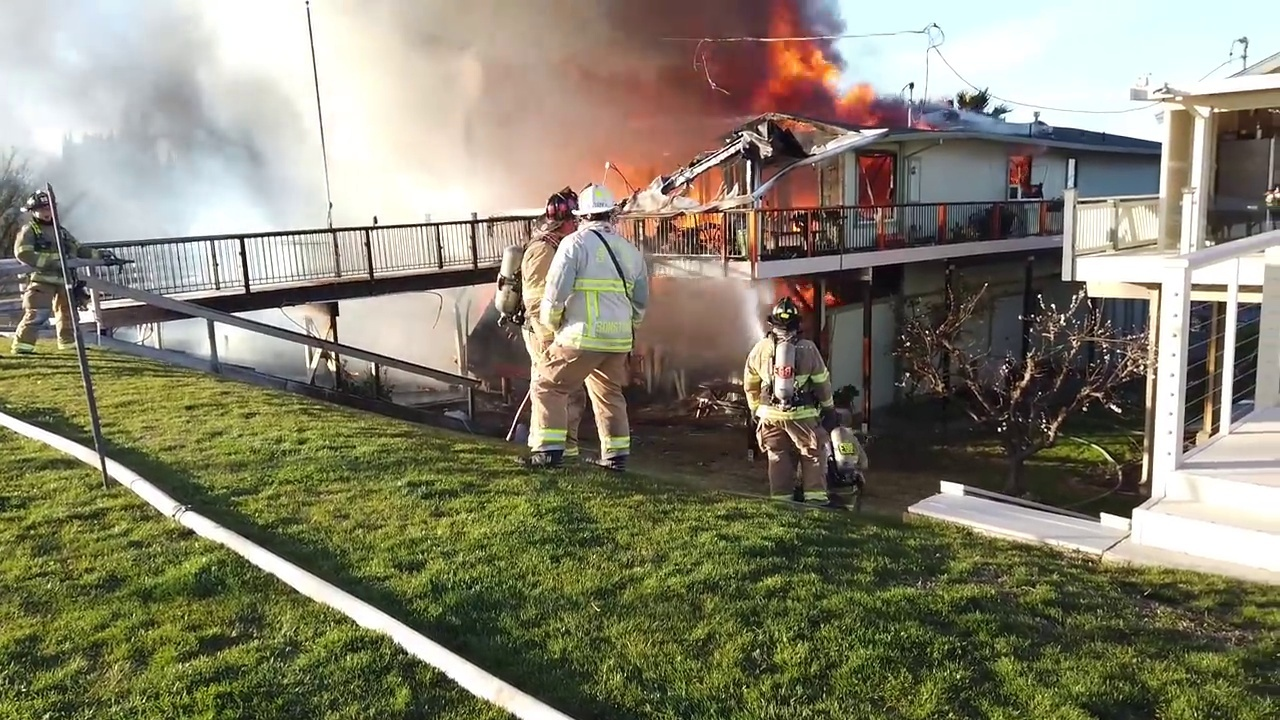fire: (759, 7, 888, 127), (648, 279, 747, 390), (780, 277, 841, 309), (857, 155, 893, 203), (906, 109, 944, 140), (1009, 156, 1029, 186)
smoke: (1, 3, 323, 229), (336, 3, 598, 206), (598, 1, 889, 128), (340, 301, 467, 375), (602, 131, 729, 188), (214, 322, 305, 380), (148, 320, 209, 362), (766, 164, 819, 210)
